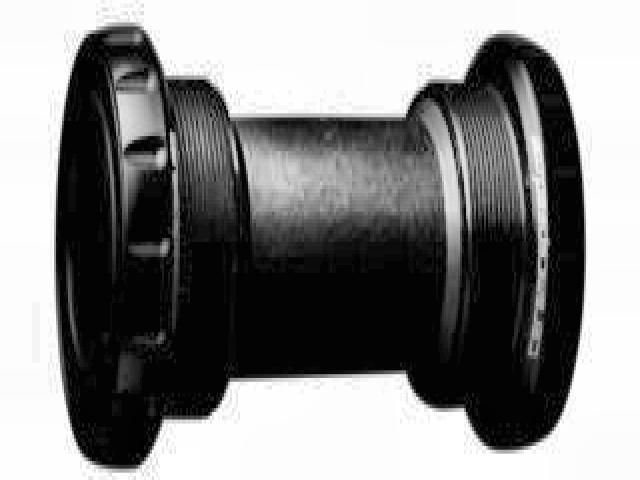bottom_bracket: (52, 19, 587, 470)
